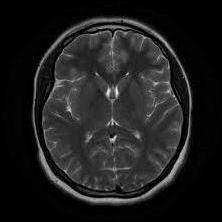Normal_Brain: (5, 1, 222, 222)
